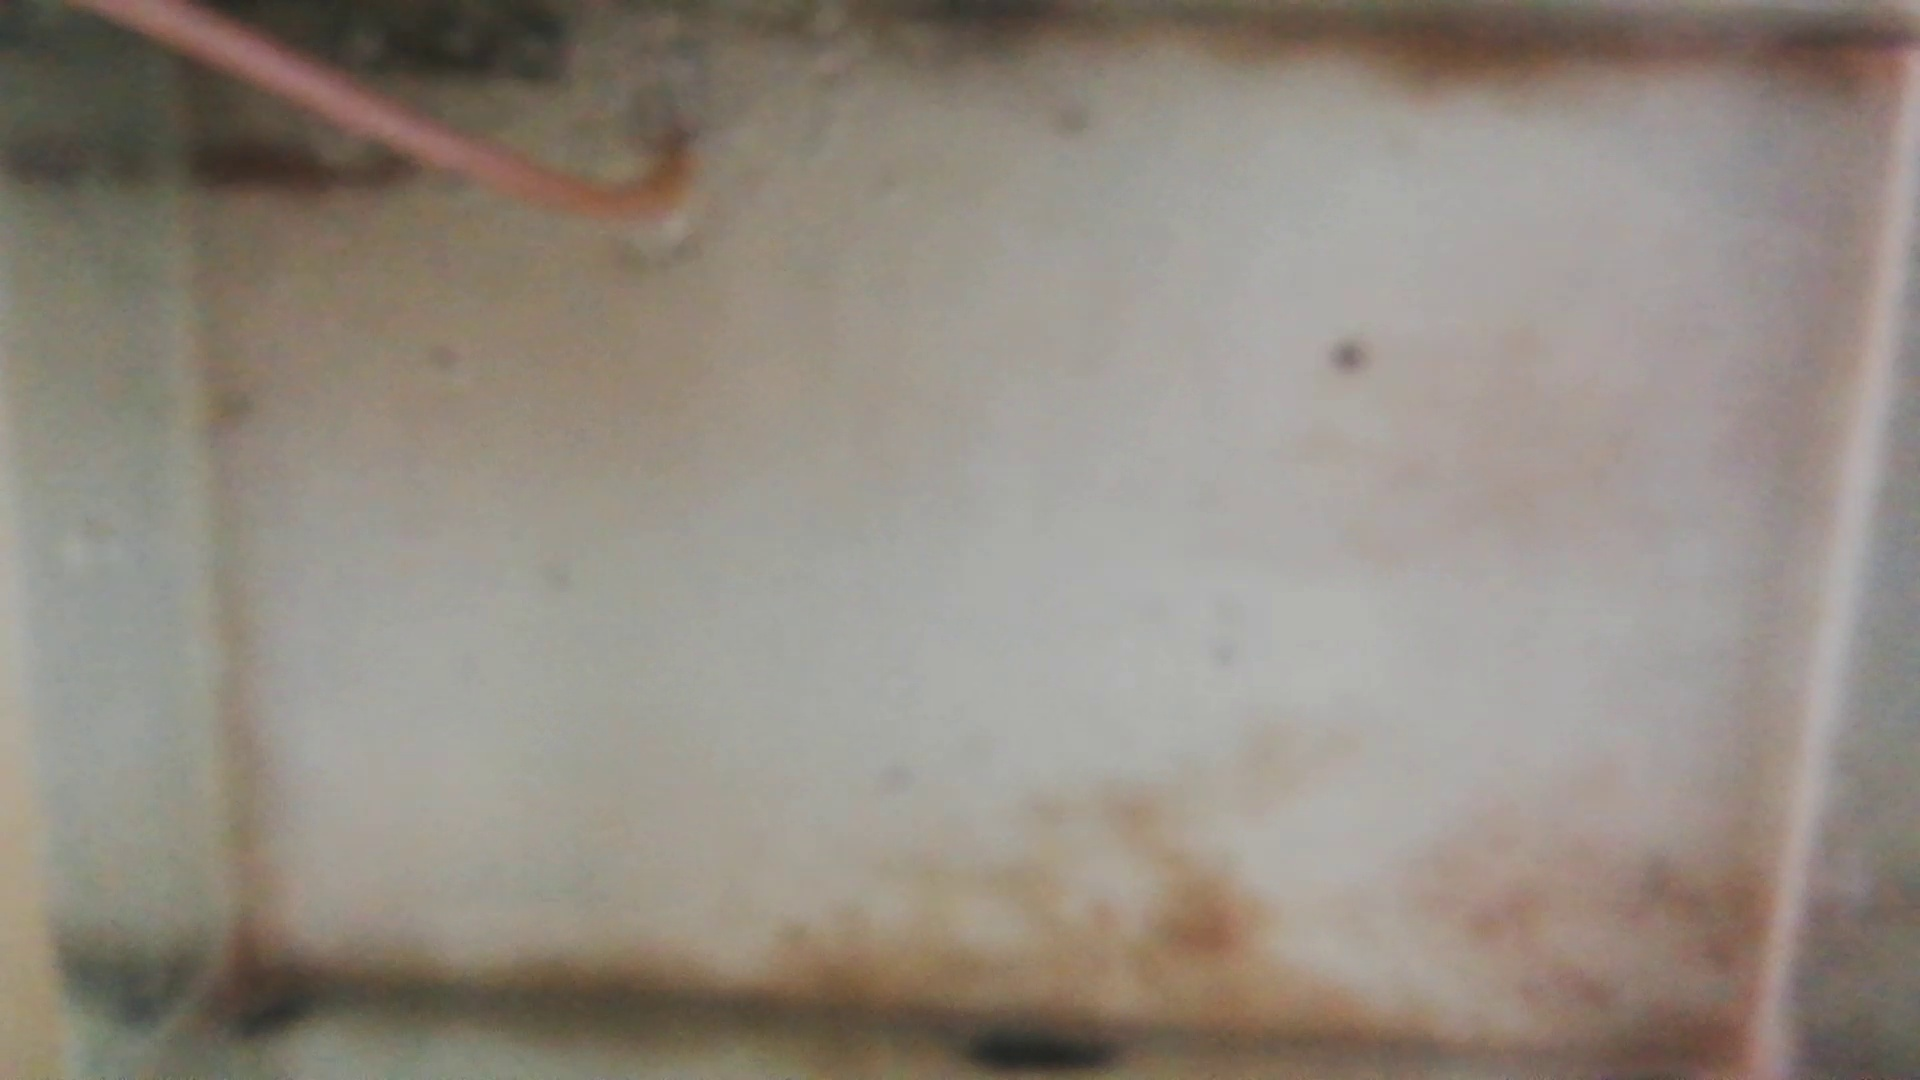fish: (199, 142, 400, 204)
